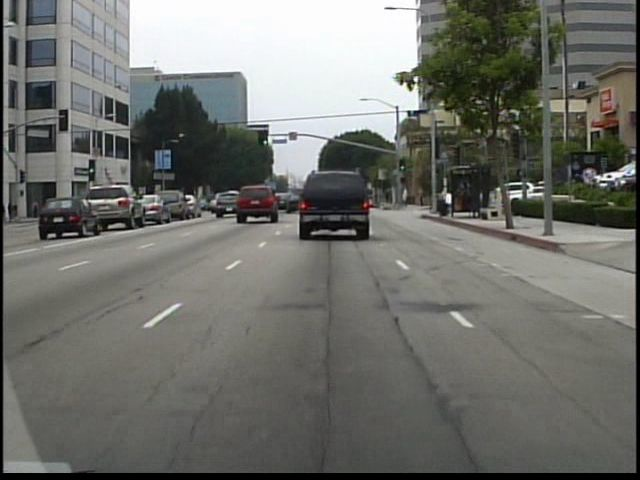person: (401, 184, 414, 211), (417, 181, 429, 210), (384, 184, 395, 208)
